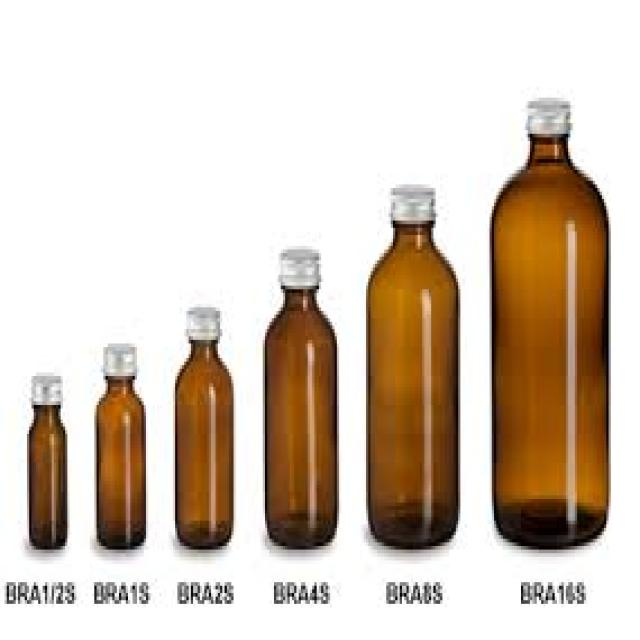glass: (490, 134, 607, 550), (366, 221, 458, 550), (263, 282, 337, 550), (173, 336, 231, 550), (92, 376, 144, 546), (27, 402, 67, 550)
metal: (389, 181, 434, 224), (276, 242, 317, 286), (526, 94, 568, 130), (101, 336, 133, 380), (184, 304, 216, 336), (27, 369, 56, 398)
